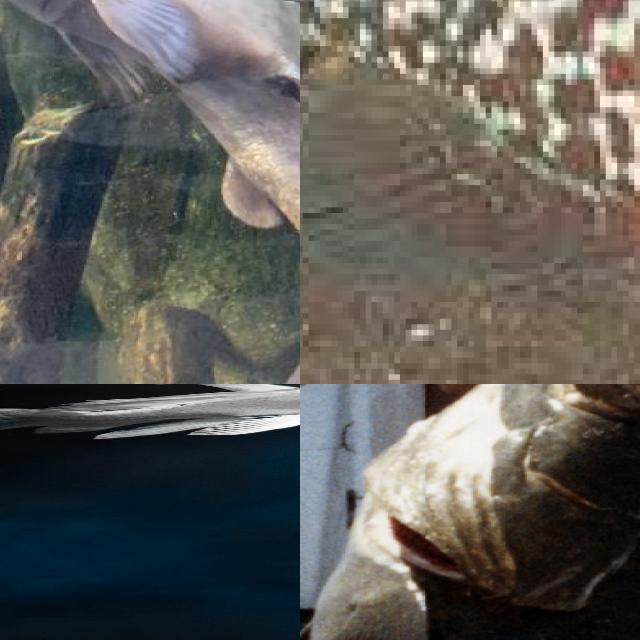fish: (300, 0, 640, 374), (0, 0, 300, 384), (300, 384, 640, 640), (0, 384, 300, 510)
